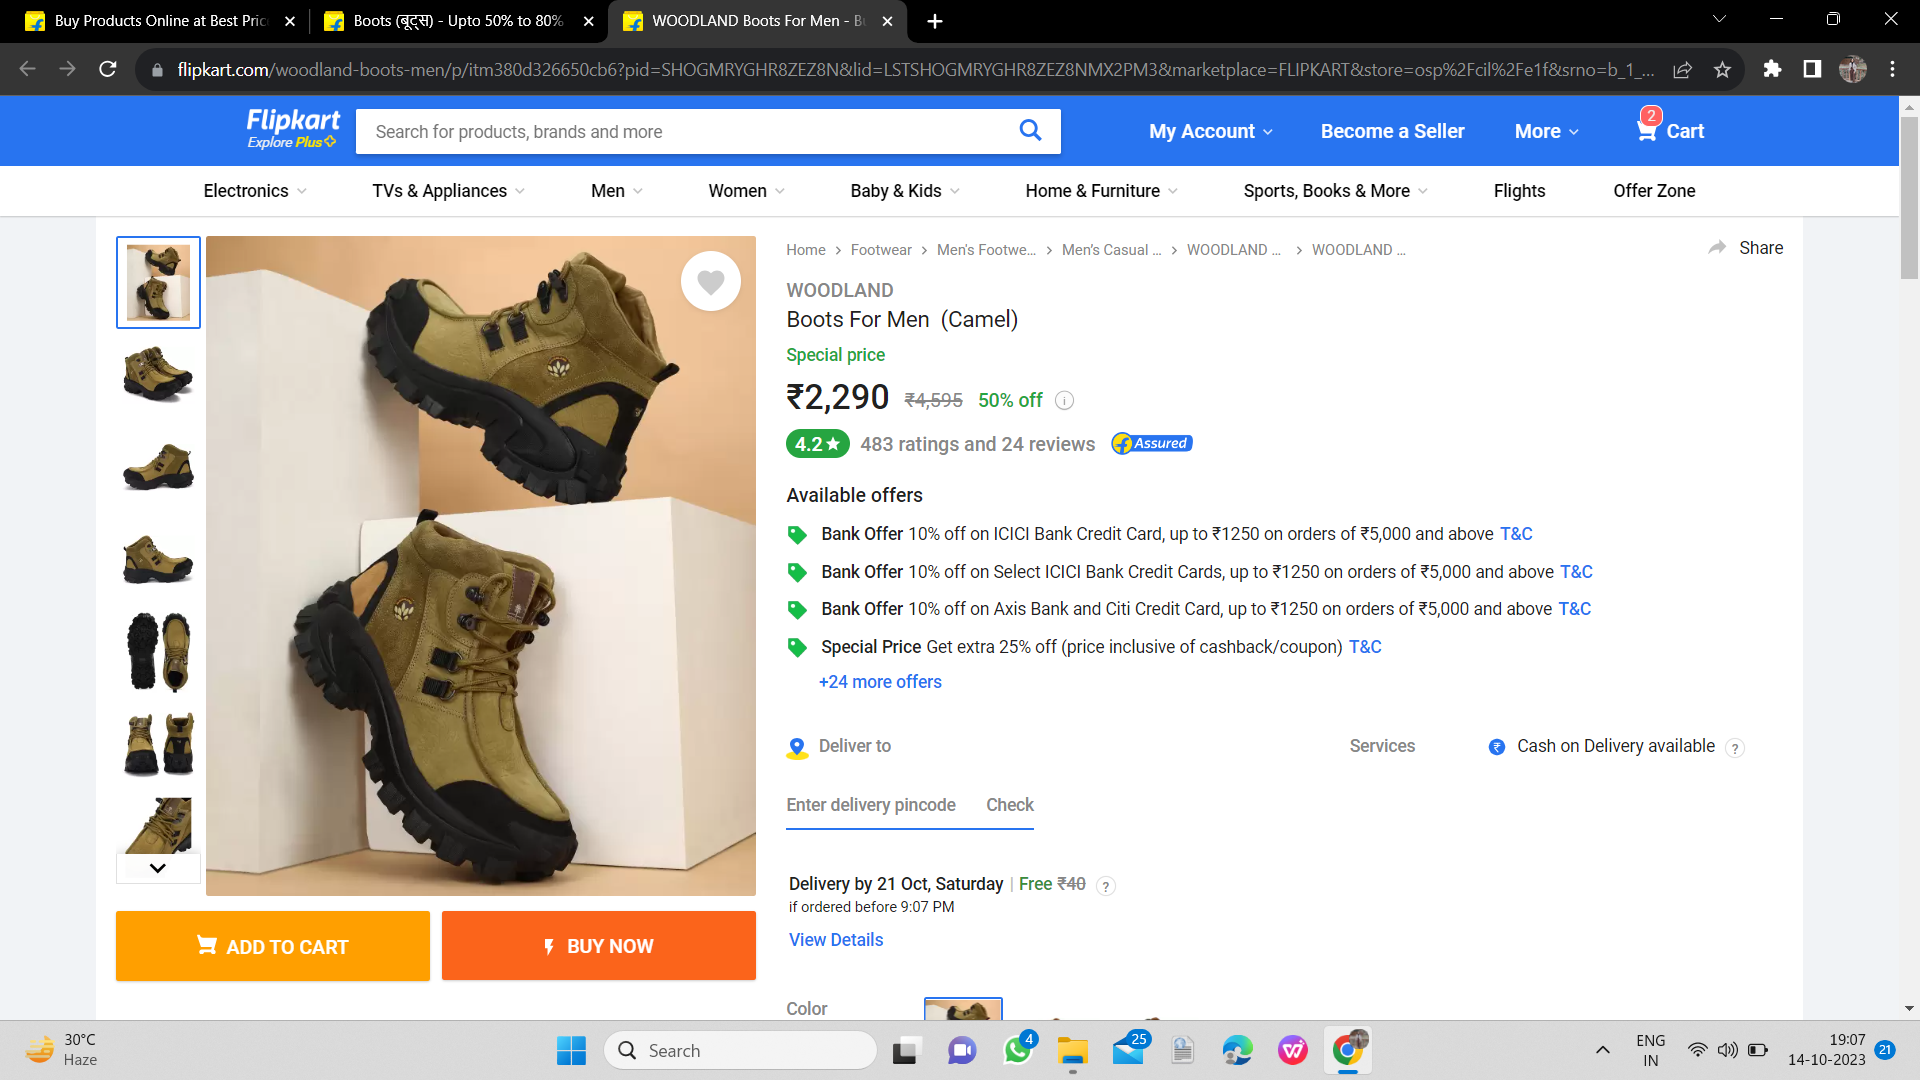Image: (214, 228, 757, 893)
Paragraph: (779, 520, 1601, 699), (108, 909, 766, 990), (1116, 105, 1721, 170), (774, 858, 1120, 949), (773, 727, 1052, 832), (774, 340, 1075, 417), (781, 421, 1205, 462), (1342, 732, 1756, 773), (774, 281, 1025, 339), (774, 481, 923, 509)
